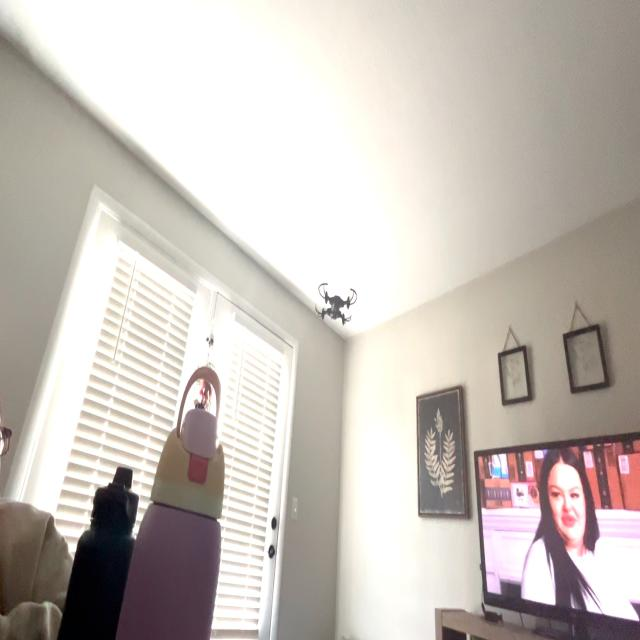drone: (303, 255, 359, 338)
